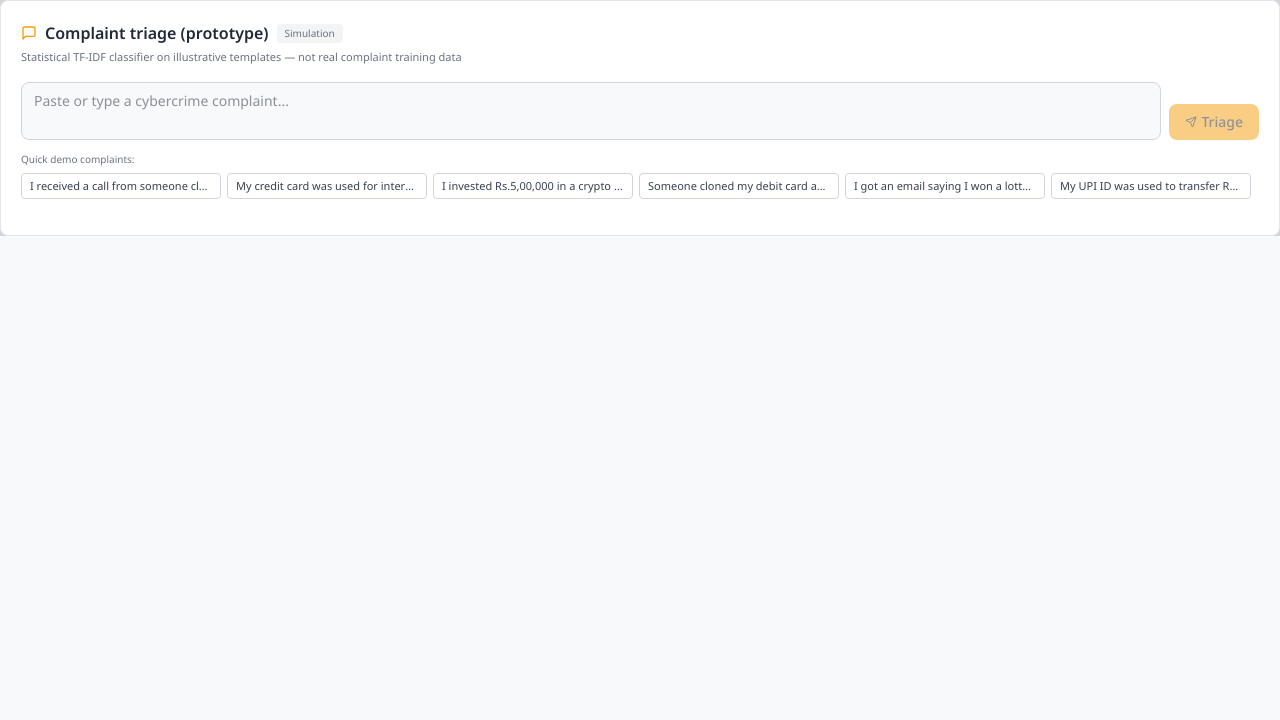
Test: NlpComplaintTriage › shows result after successful triage
Type "UPI PIN used to transfer Rs.35000" into the text box with placeholder "Paste or type a cybercrime complaint...". click: (591,110)
box: [21, 82, 1161, 140]
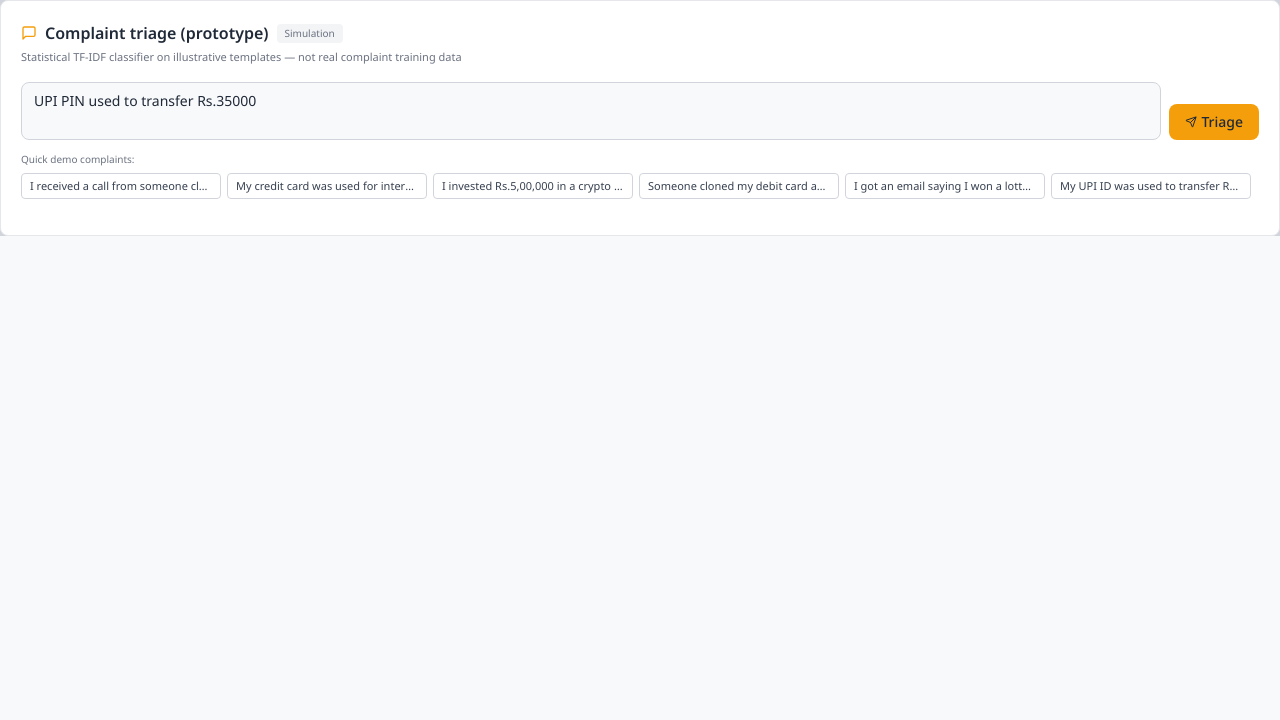
Click the button "Triage". click: (1214,122)
box: [1169, 104, 1259, 140]
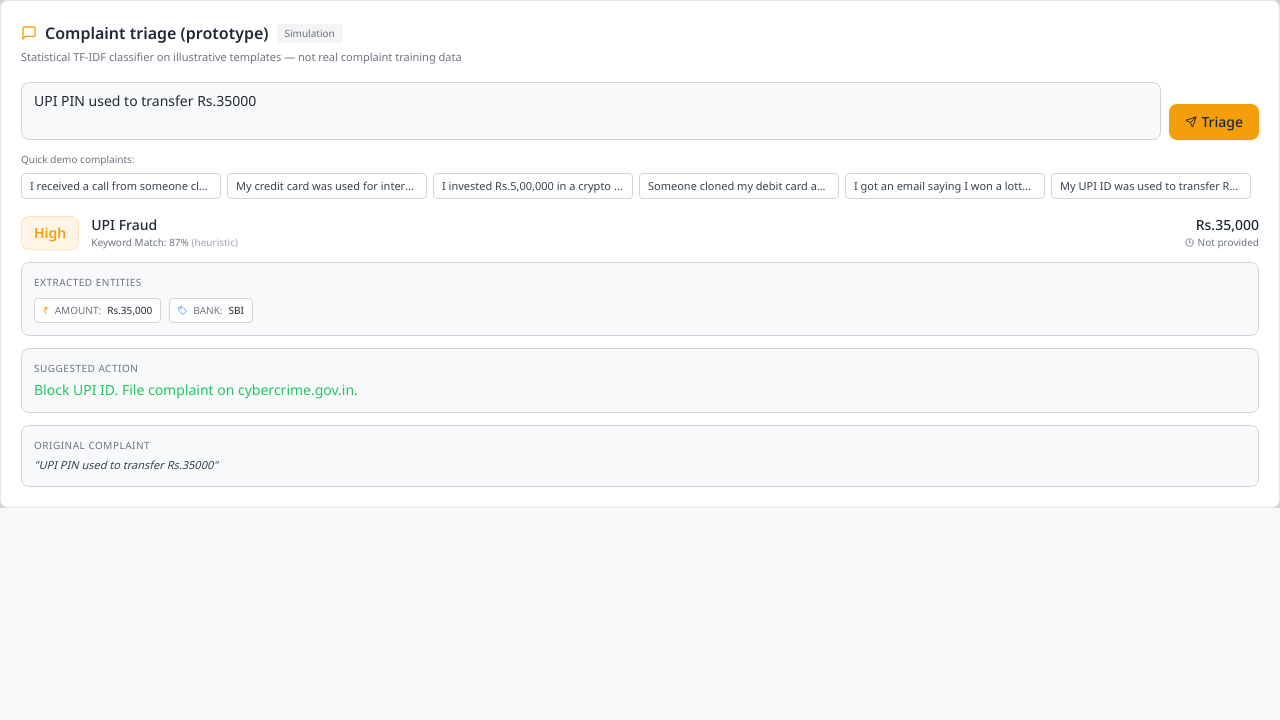
Now the text "UPI Fraud" is shown, box [91, 215, 157, 234]
